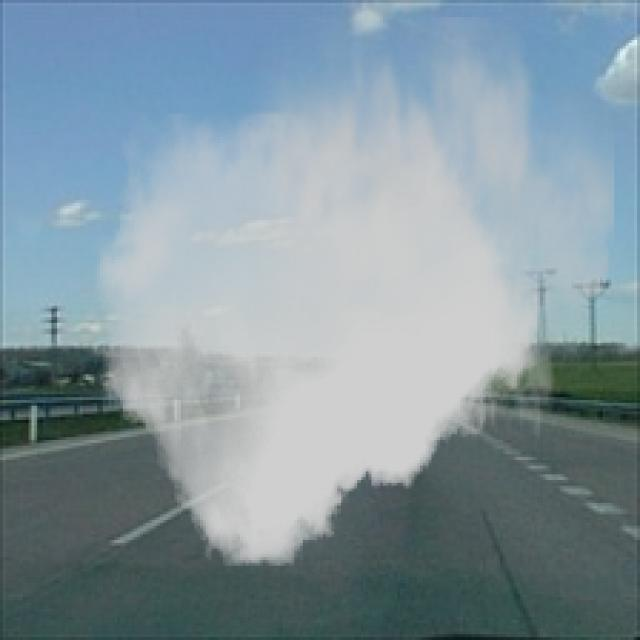Smoke: (95, 17, 614, 566)
